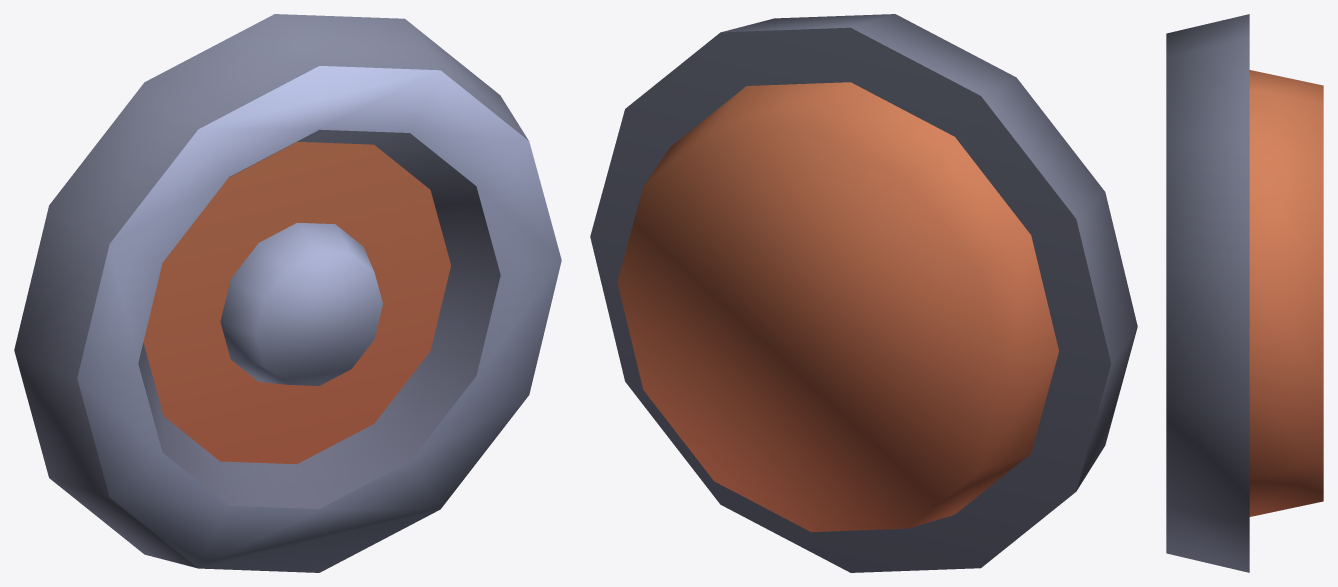
File: shield-round.glb
3 views of the same model, side by side, from view 1: azimuth 30°, elevation 25°; view 2: azimuth 150°, elevation 25°; view 3: azimuth 270°, elevation 25° (orthographic). The views are drawn at different scales.
Parts seen in each view (by area): view 1: shield-round; view 2: shield-round; view 3: shield-round.
Part boxes in pixels (x1,y1,x2,y2): shield-round: (14,14,561,572); shield-round: (590,14,1137,572); shield-round: (1166,14,1323,572).
Size of the model in its own units: 0.3797 by 0.3797 by 0.1065.
Materials: 1 (1 with a texture image).
